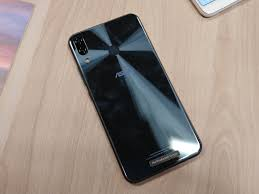asus: (59, 11, 206, 186)
